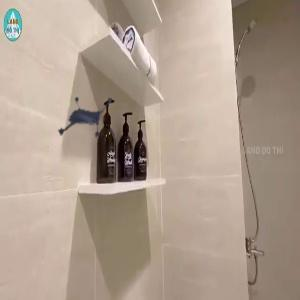drone: (46, 91, 117, 162)
